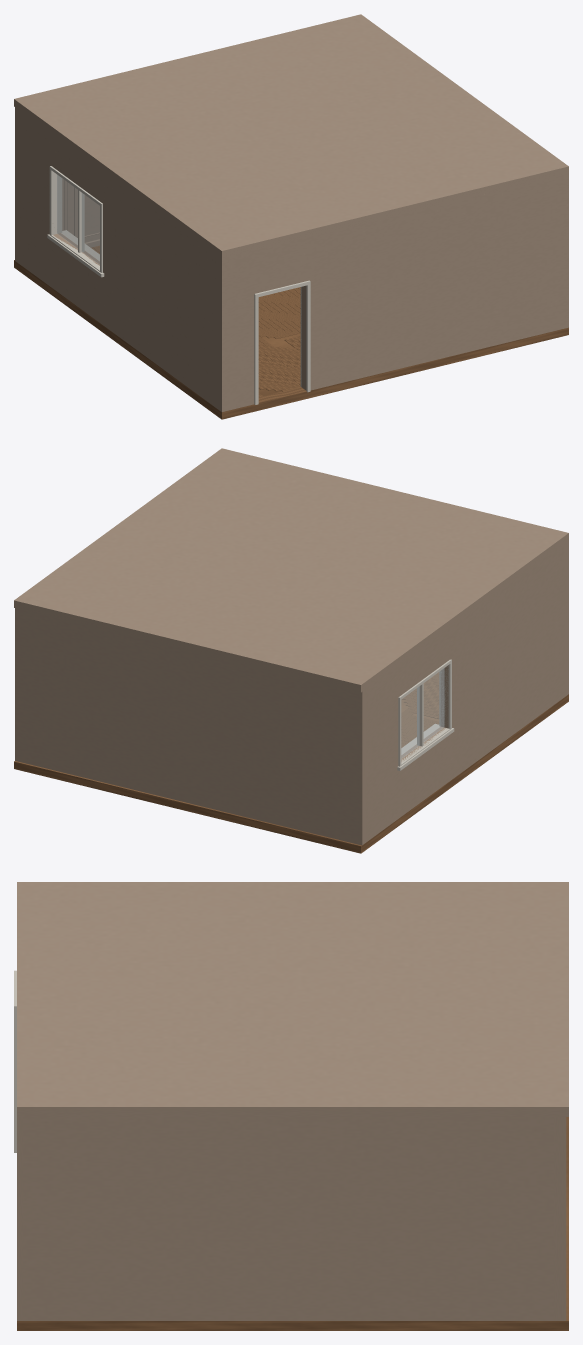
Rendered from 03_bedroom_material.glb.
3 views of the same model, one above another, from view 1: azimuth 30°, elevation 25°; view 2: azimuth 150°, elevation 25°; view 3: azimuth 270°, elevation 25° (orthographic). The views are drawn at different scales.
Parts seen in each view (by area): view 1: 完整四墙_厚0.18_真实门窗洞, 实体天花_厚0.16, 实体地板_厚0.16, 推定窗玻璃_厚0.012, 推定窗洞立框.001, 推定门洞双面立边.002, 推定门洞双面立边.003; view 2: 完整四墙_厚0.18_真实门窗洞, 实体天花_厚0.16, 实体地板_厚0.16, 推定窗玻璃_厚0.012; view 3: 实体天花_厚0.16, 完整四墙_厚0.18_真实门窗洞, 实体地板_厚0.16.
Part boxes in pixels (x1,y1,x2,y2): 完整四墙_厚0.18_真实门窗洞: (15, 107, 568, 411); 实体天花_厚0.16: (14, 14, 568, 258); 实体地板_厚0.16: (14, 260, 568, 419); 推定窗玻璃_厚0.012: (57, 175, 99, 264); 推定窗洞立框.001: (49, 166, 62, 235); 推定门洞双面立边.002: (254, 297, 258, 404); 推定门洞双面立边.003: (306, 284, 310, 392); 完整四墙_厚0.18_真实门窗洞: (15, 540, 568, 845); 实体天花_厚0.16: (14, 448, 568, 692); 实体地板_厚0.16: (14, 694, 568, 853); 推定窗玻璃_厚0.012: (401, 668, 444, 758); 实体天花_厚0.16: (17, 882, 568, 1116); 完整四墙_厚0.18_真实门窗洞: (17, 1117, 566, 1320); 实体地板_厚0.16: (17, 1117, 568, 1330).
Size of the model in its own units: 7.87 by 3.62 by 8.13.
20 materials, 10 textured.
